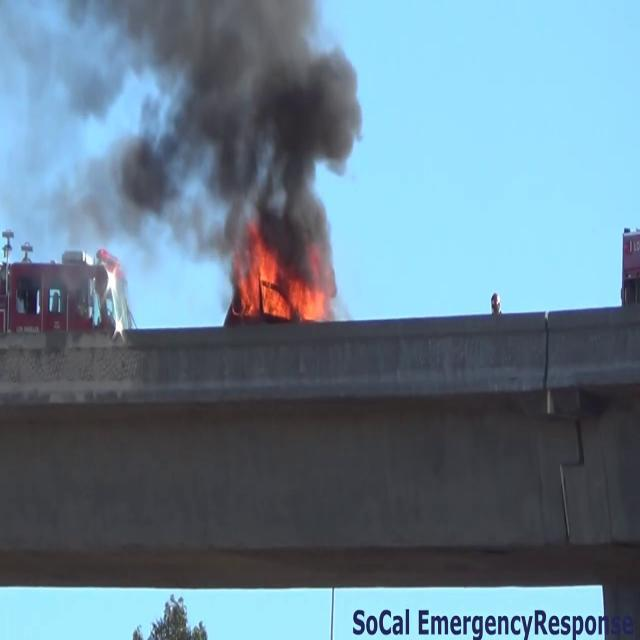Fire: (239, 256, 335, 326)
Smoke: (59, 0, 368, 269)
